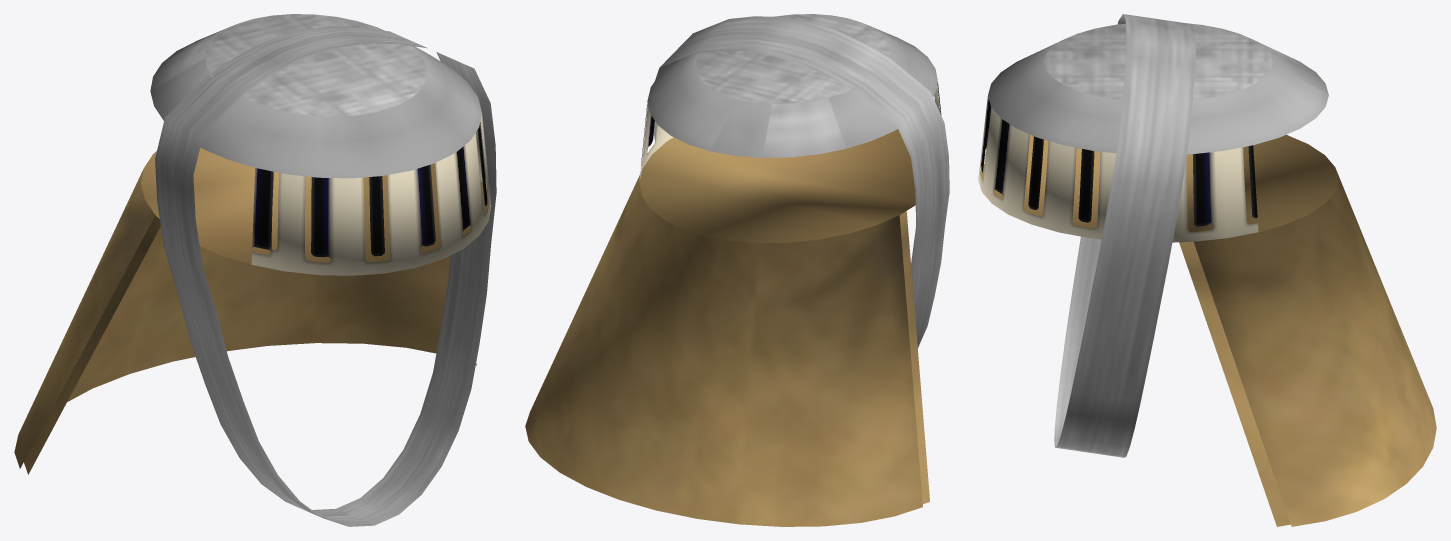
Rendered from helmet_moch_basic_1.dae.
3 views of the same model, side by side, from view 1: azimuth 30°, elevation 25°; view 2: azimuth 150°, elevation 25°; view 3: azimuth 270°, elevation 25° (orthographic). The views are drawn at different scales.
Visible parts, largest first — view 1: helmet_moch_basic_1; view 2: helmet_moch_basic_1; view 3: helmet_moch_basic_1.
Part boxes in pixels (bbox=[...]): helmet_moch_basic_1: bbox=[14, 14, 496, 526]; helmet_moch_basic_1: bbox=[525, 14, 949, 526]; helmet_moch_basic_1: bbox=[978, 14, 1436, 526].
Size of the model in its own units: 0.7223 by 0.7071 by 0.7066.
